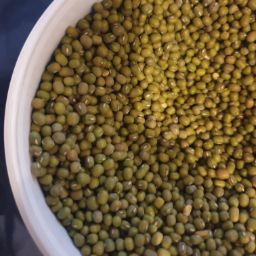Green gram dal(moong): (93, 8, 187, 256), (54, 73, 256, 174), (36, 150, 253, 243), (182, 3, 245, 256), (36, 30, 107, 246), (105, 88, 191, 191)
